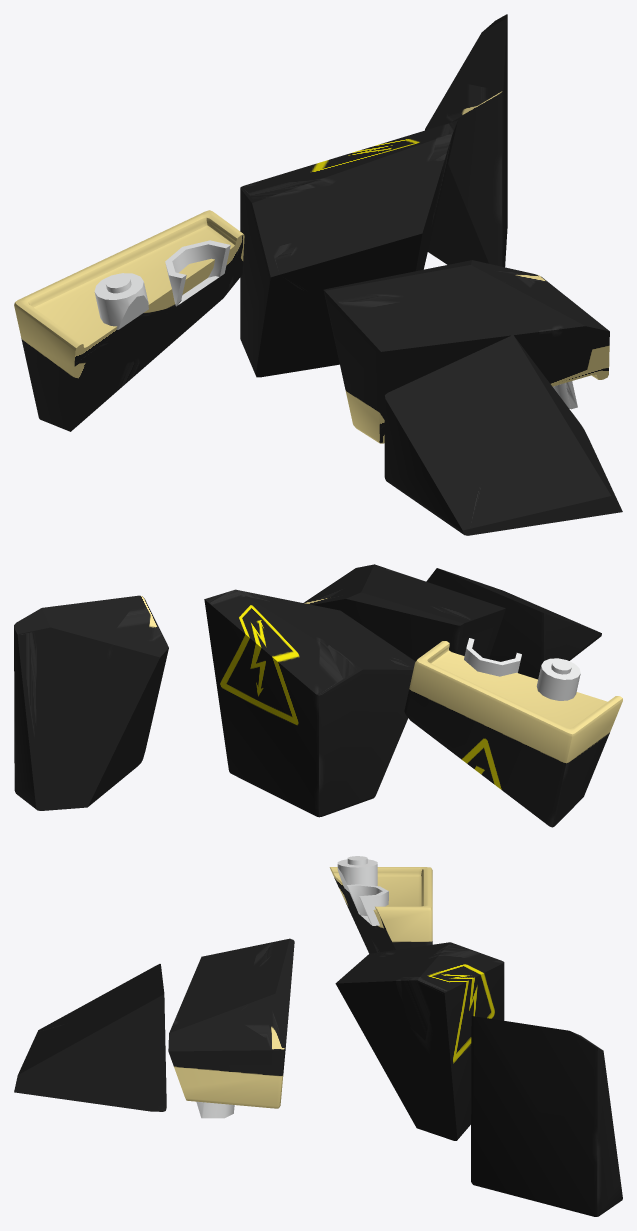
File: Power Source destroyed state.fbx
The picture shows the model from 3 angles, top to bottom: view 1: azimuth 30°, elevation 25°; view 2: azimuth 150°, elevation 25°; view 3: azimuth 270°, elevation 25°; orthographic projection. The views are drawn at different scales.
Parts seen in each view (by area): view 1: Battery Destroyed state; view 2: Battery Destroyed state; view 3: Battery Destroyed state.
Boxes of the visible parts, x1,y1,x2,y2 form: Battery Destroyed state: [14, 14, 622, 535]; Battery Destroyed state: [14, 564, 622, 827]; Battery Destroyed state: [14, 856, 622, 1216].
Size of the model in its own units: 147 by 160 by 52.63.
